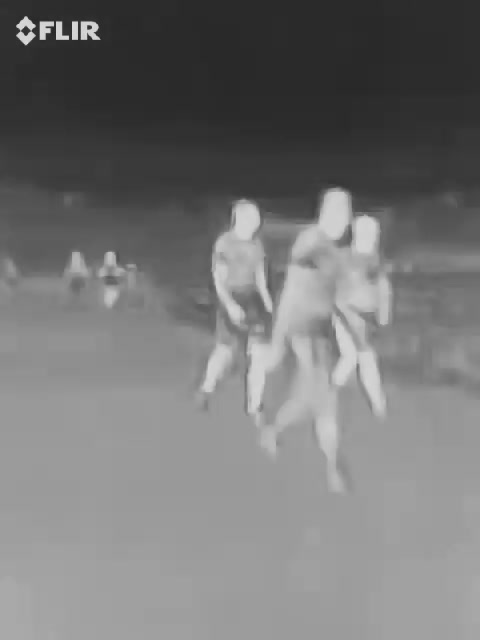head: (313, 183, 357, 246)
